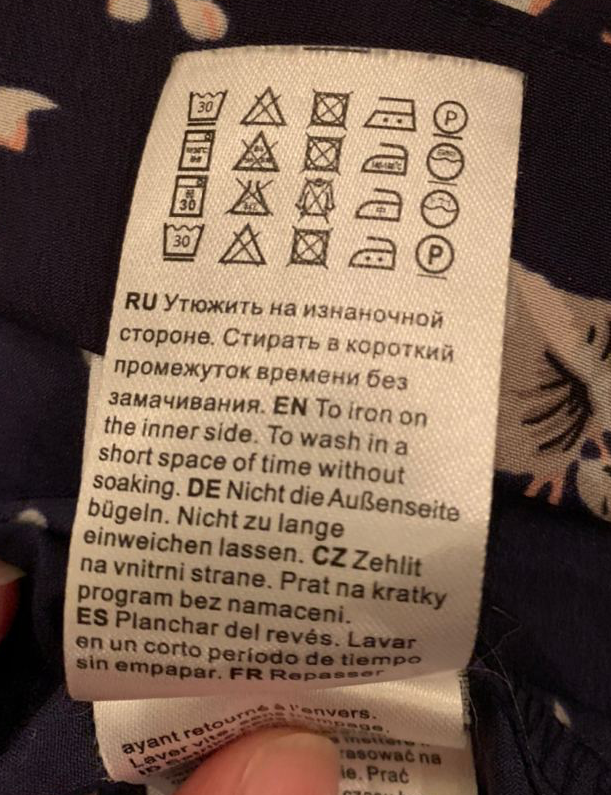do_not_bleach: (217, 219, 269, 267), (239, 82, 288, 129)
do_not_tumble_drying: (285, 221, 335, 269), (296, 131, 349, 175), (303, 88, 353, 133)
gentle_cleaning_with_pce: (411, 232, 458, 281), (430, 97, 469, 138)
ironing_at_med_temp: (363, 91, 420, 131), (345, 229, 398, 272)
wash_at_or_below_30_mild_fine_wash: (156, 220, 207, 267), (182, 84, 229, 126)
